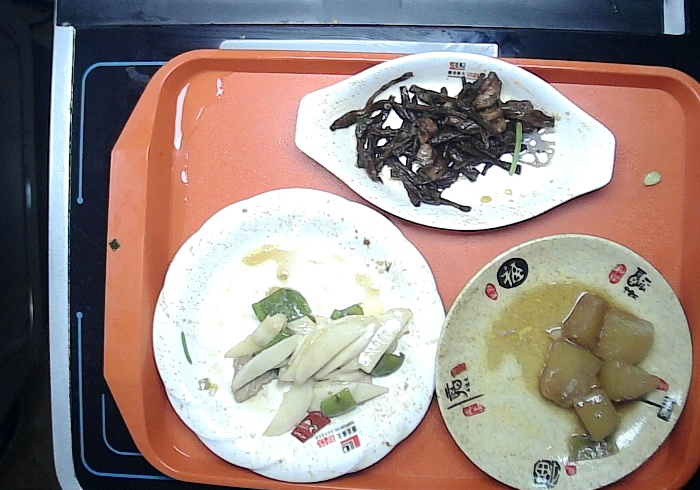NLDX-Bai_Zhe_Yuan_Pan: (150, 185, 448, 484)
NLDX-Fu_Zi_Yuan_Pan: (432, 230, 694, 490)
NLDX-Yu_Pan: (292, 50, 618, 234)
